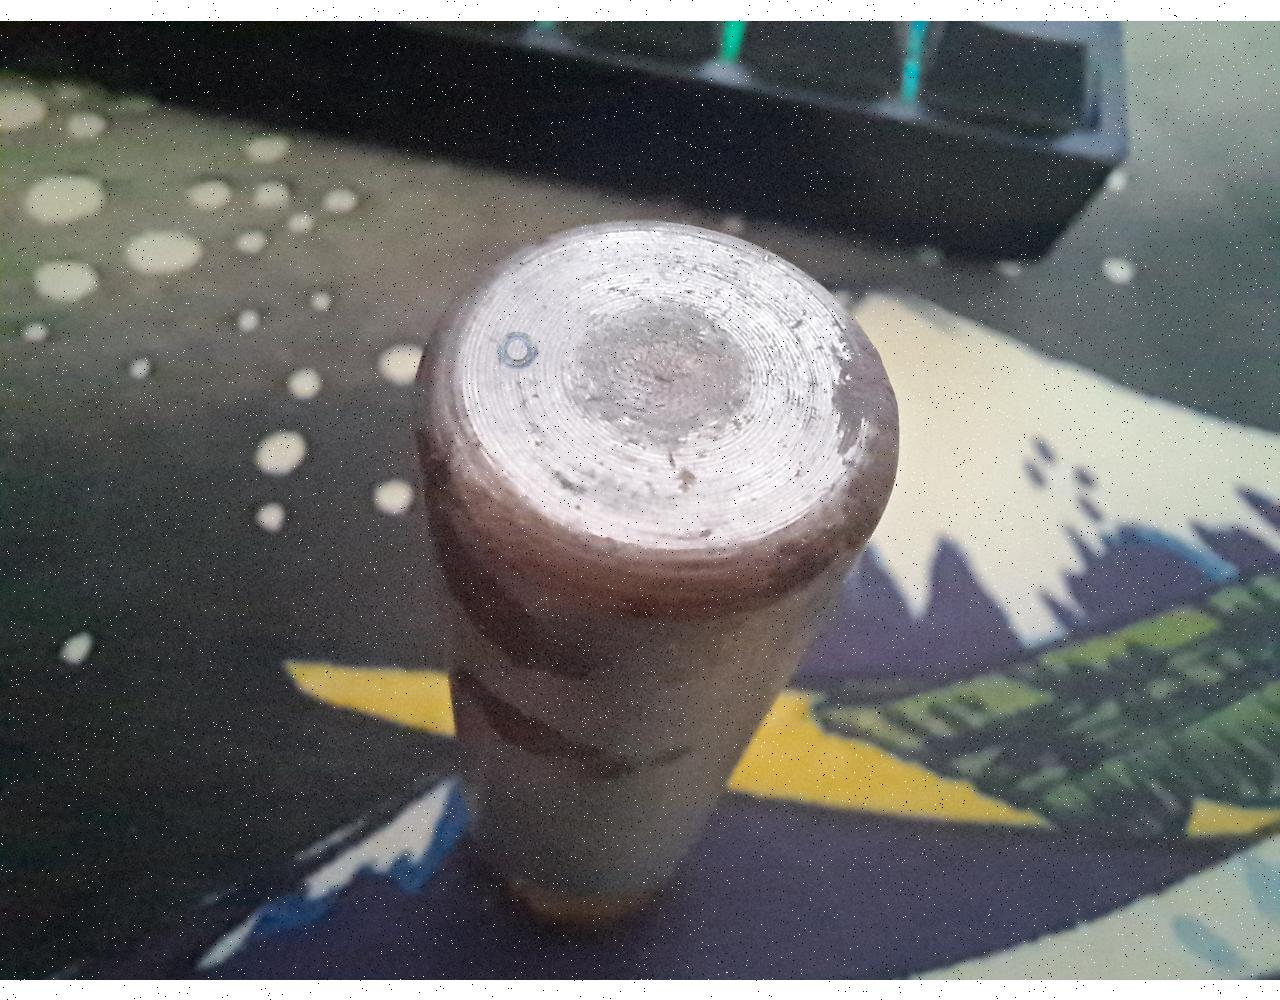defect: (489, 326, 545, 377)
planson: (414, 218, 900, 926)
